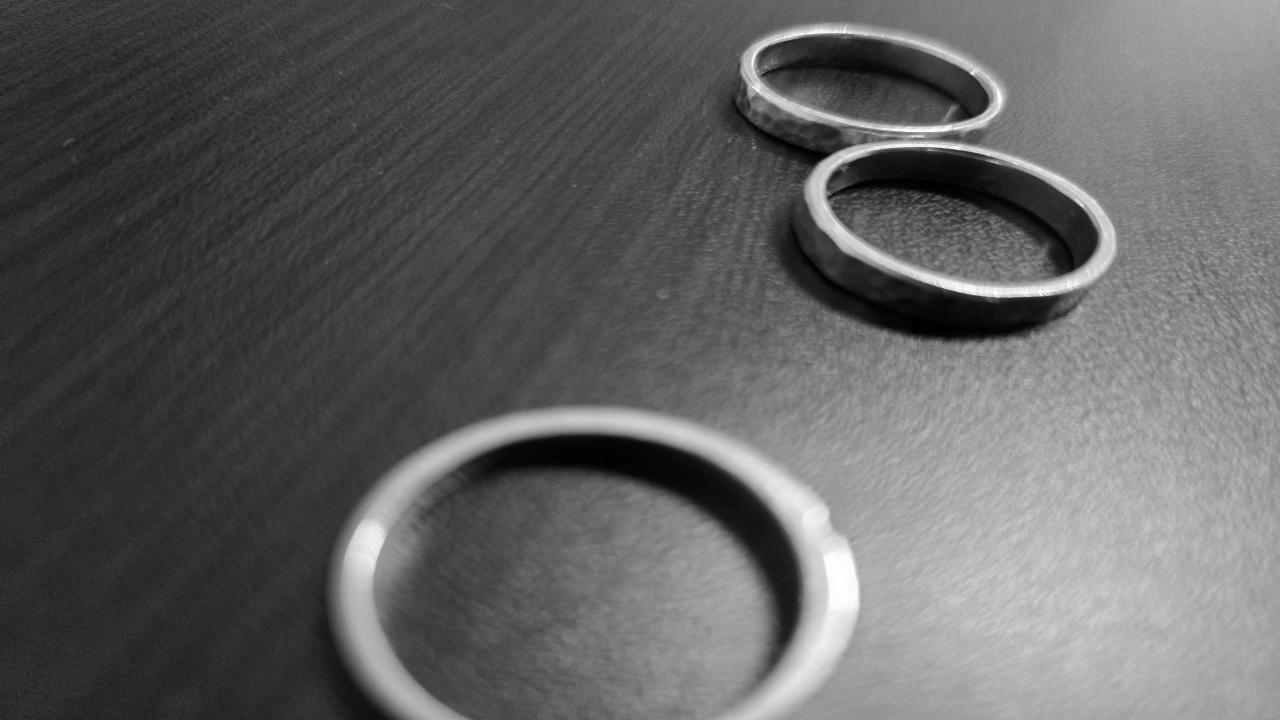ring: (326, 402, 846, 718), (790, 140, 1120, 330), (731, 21, 1004, 157)
